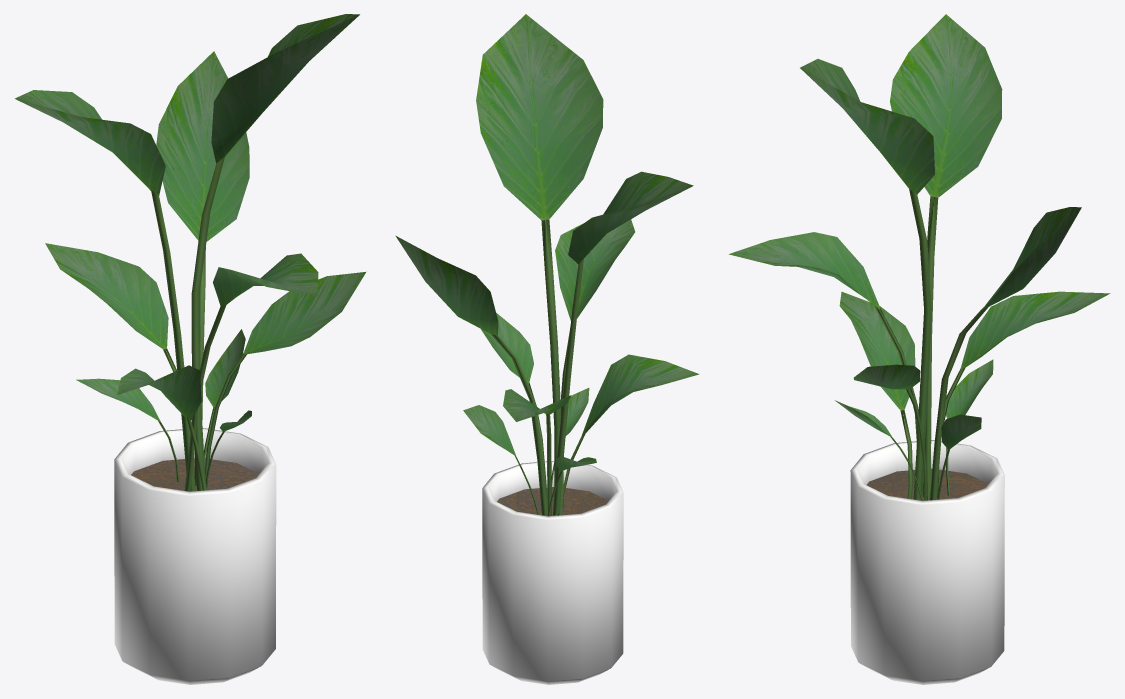
The model's file is AIR0210015.fbx.
3 renders of one model, left to right at view 1: azimuth 30°, elevation 25°; view 2: azimuth 150°, elevation 25°; view 3: azimuth 270°, elevation 25°, orthographic. The views are drawn at different scales.
Parts seen in each view (by area): view 1: smAIR0210015; view 2: smAIR0210015; view 3: smAIR0210015.
Boxes of the visible parts, x1,y1,x2,y2 form: smAIR0210015: (15, 14, 366, 684); smAIR0210015: (395, 14, 699, 684); smAIR0210015: (729, 14, 1110, 684).
Size of the model in its own units: 70.05 by 144 by 78.33.
Materials: 1 (1 with a texture image).
